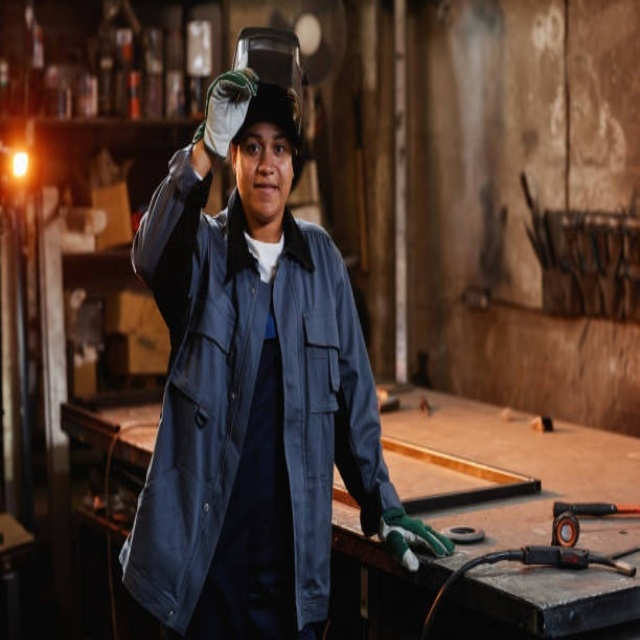Guantes: (197, 69, 258, 161), (377, 506, 455, 571)
Sin_gafas: (242, 129, 291, 163)
Sin_mascara: (248, 174, 287, 213)
